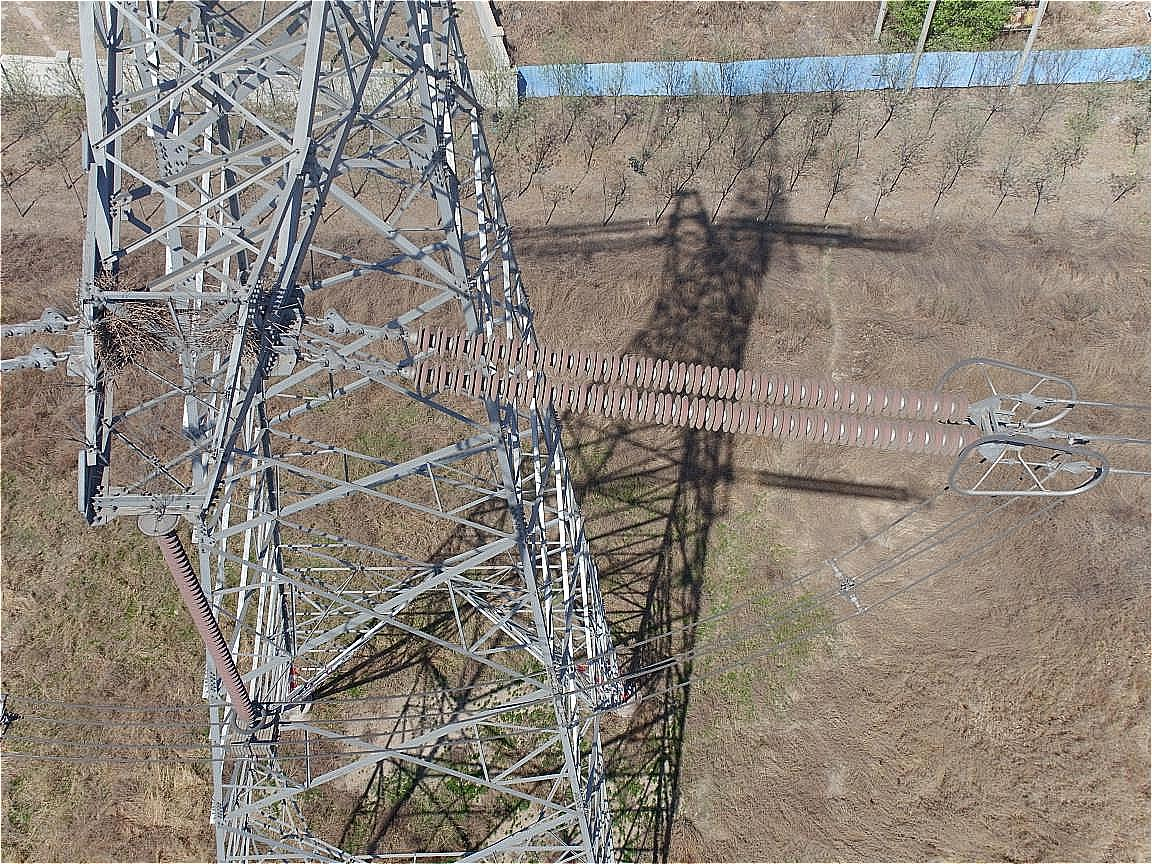insultor2: (371, 318, 1017, 484)
